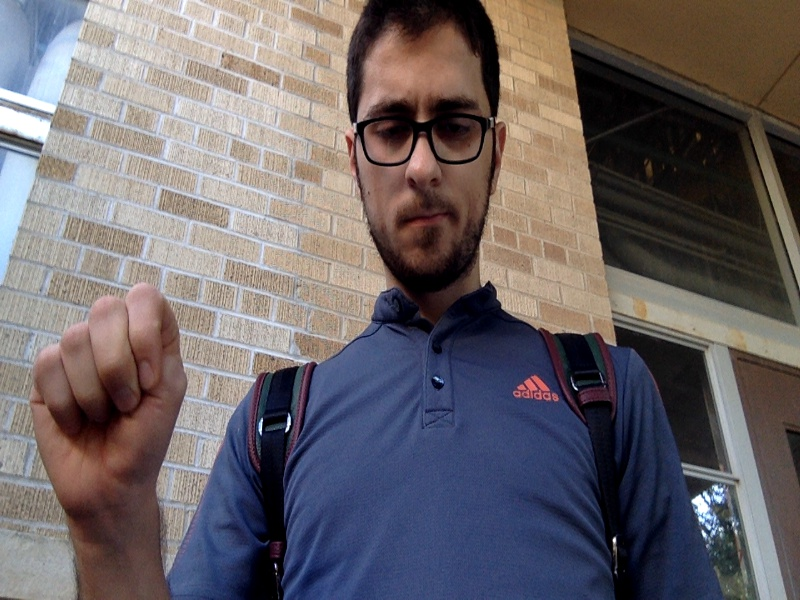0-hand: (31, 284, 185, 512)
